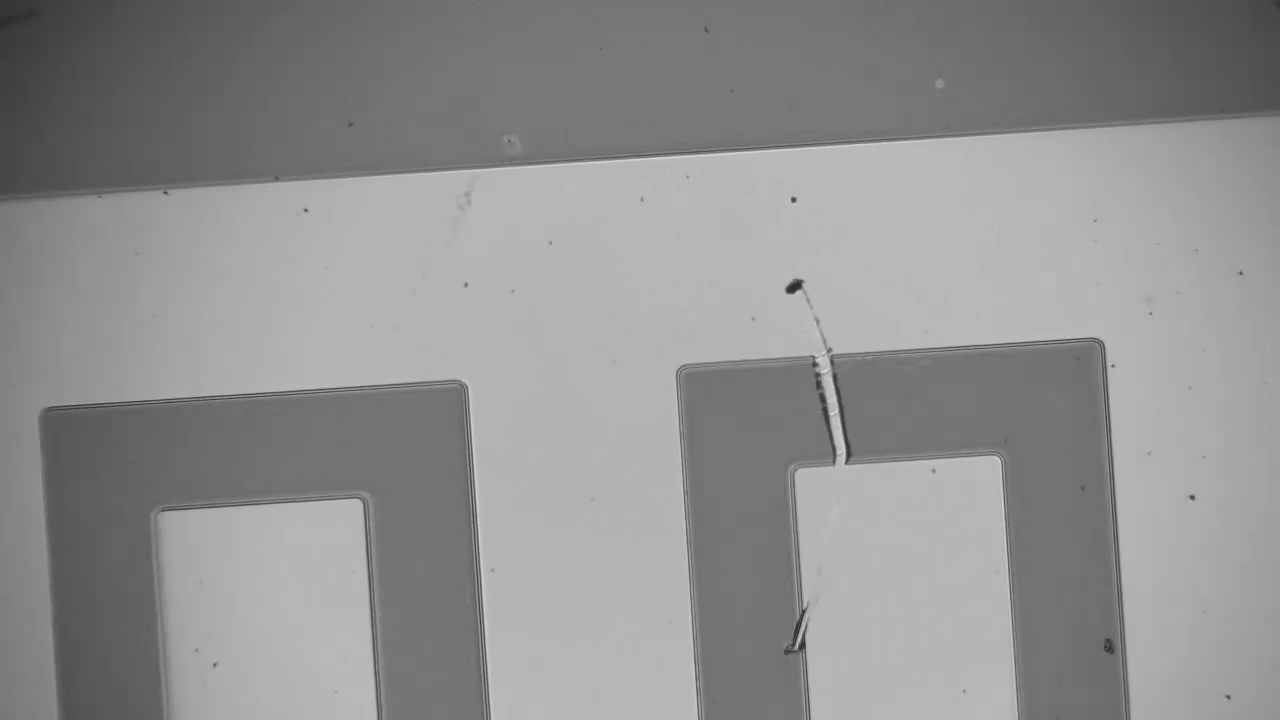Short_circuit: (795, 330, 882, 482)
